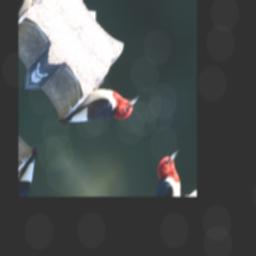Woodpecker: (50, 54, 146, 169)
